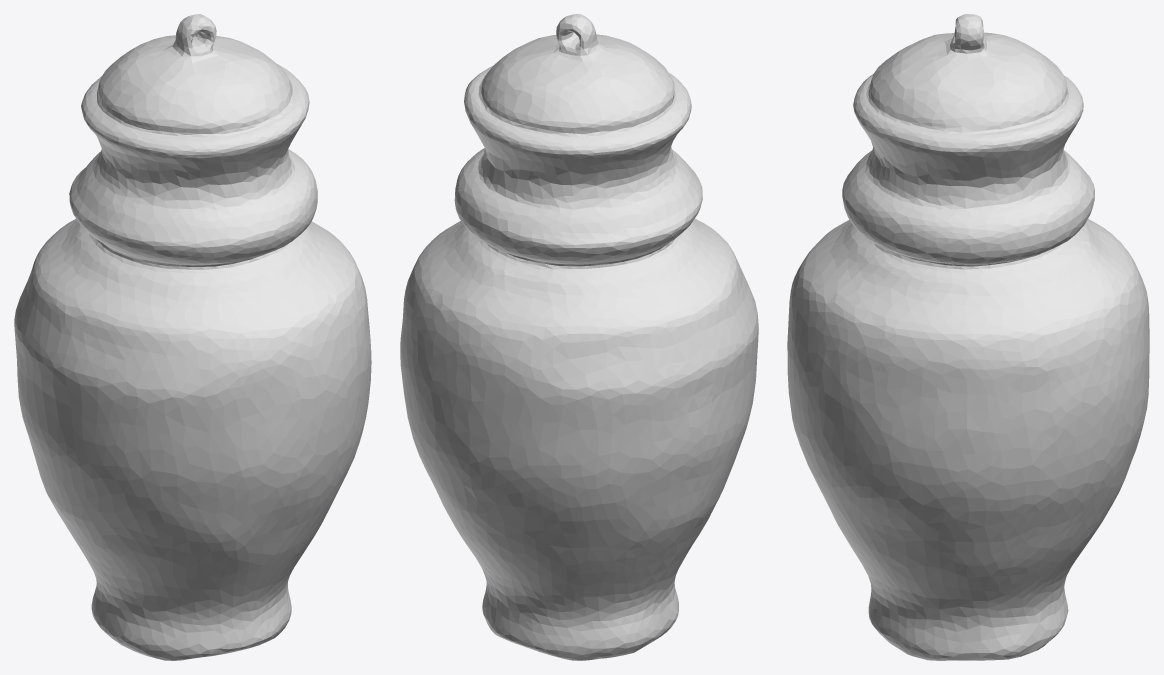
Rendered from urn_ash_r1.glb.
The picture shows the model from 3 angles, left to right: view 1: azimuth 30°, elevation 25°; view 2: azimuth 150°, elevation 25°; view 3: azimuth 270°, elevation 25°; orthographic projection.
Parts seen in each view (by area): view 1: Low; view 2: Low; view 3: Low.
Part boxes in pixels (x1=…): Low: x1=14, y1=14, x2=371, y2=660; Low: x1=400, y1=14, x2=758, y2=660; Low: x1=787, y1=14, x2=1149, y2=660.
Bounding box in the file's own units: 1.05 × 1.99 × 1.06.
1 material, 1 textured.
